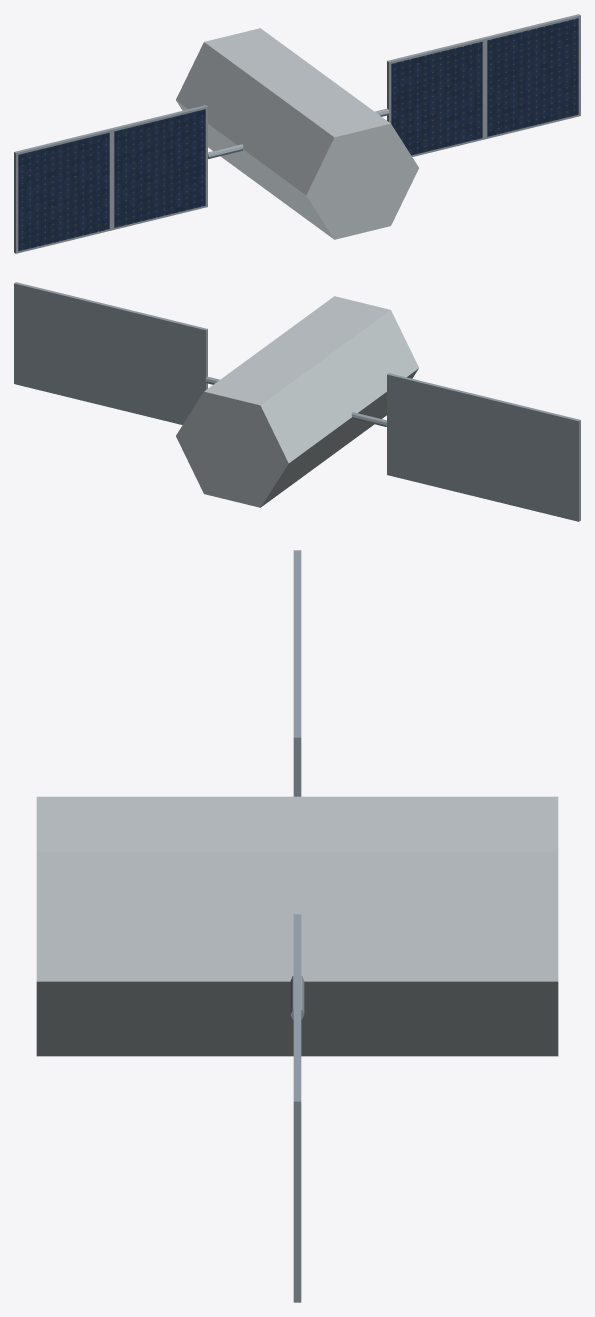
File: ref-watchdog-v0-100940.glb
3 views of the same model, one above another, from view 1: azimuth 30°, elevation 25°; view 2: azimuth 150°, elevation 25°; view 3: azimuth 270°, elevation 25° (orthographic). The views are drawn at different scales.
Parts seen in each view (by area): view 1: Photovoltaic laminates (×4), Spacecraft body, Array frame (×4); view 2: Array frame (×4), Spacecraft body; view 3: Spacecraft body, Array frame (×2).
Part boxes in pixels (bbox=[...]): Photovoltaic laminates (×4): bbox=[18, 18, 578, 251]; Spacecraft body: bbox=[176, 28, 418, 239]; Array frame (×4): bbox=[14, 14, 580, 253]; Array frame (×4): bbox=[14, 282, 580, 521]; Spacecraft body: bbox=[176, 296, 418, 507]; Spacecraft body: bbox=[36, 796, 558, 1056]; Array frame (×2): bbox=[293, 644, 301, 1302].
Bounding box in the file's own units: 1 × 0.1732 × 0.4.
Materials: 3 (1 with a texture image).
